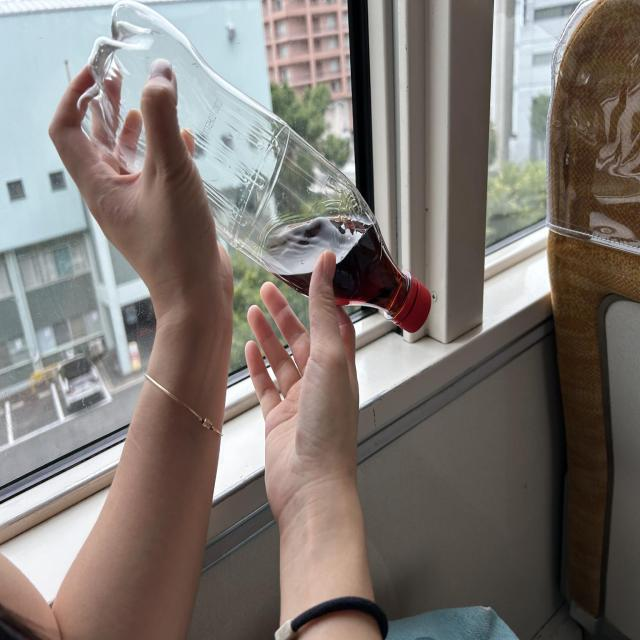low: (72, 0, 430, 332)
